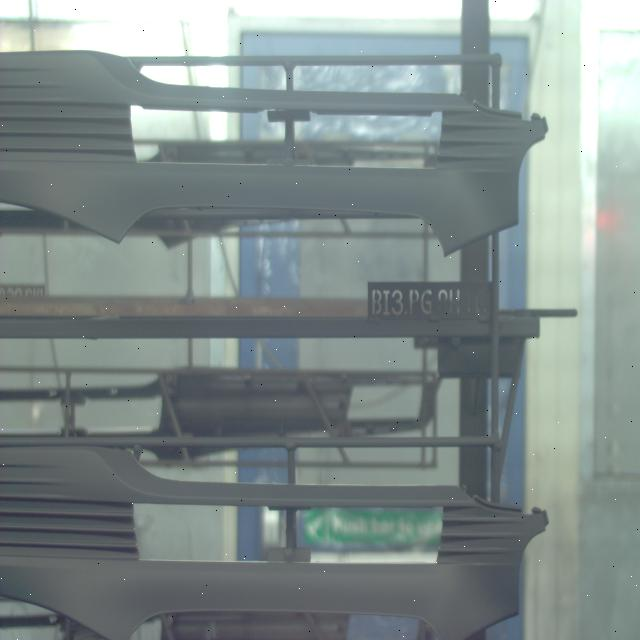Primered: (0, 43, 548, 257), (2, 443, 553, 640)
